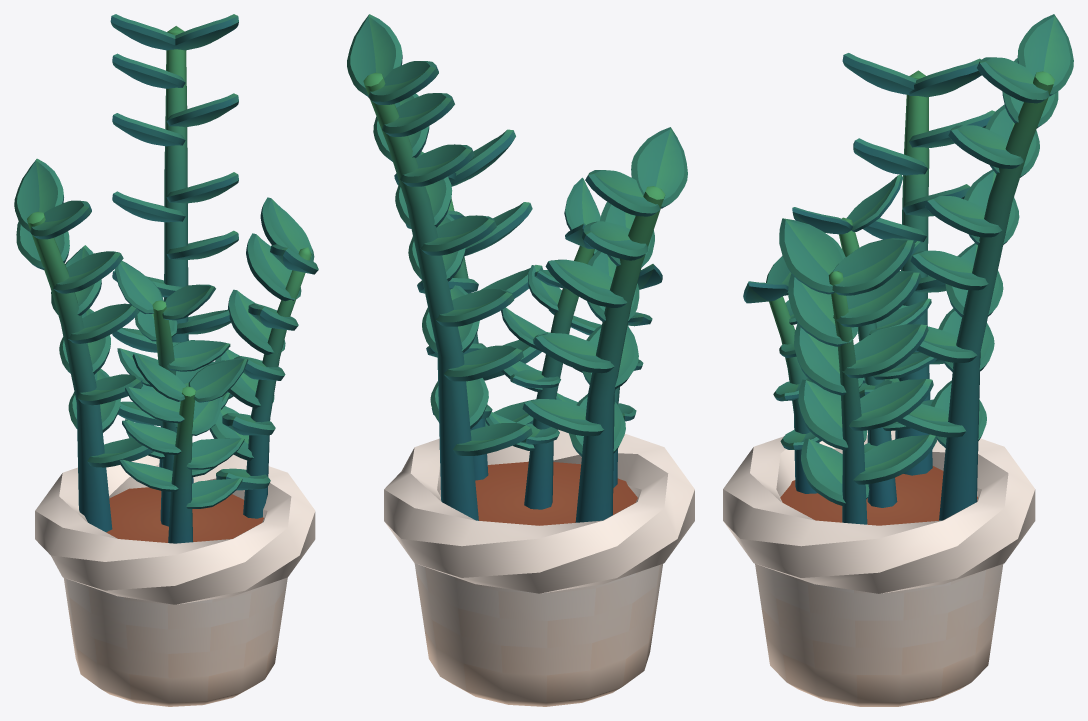
Rendered from house_plants_plants_zz_plant_pot.glb.
3 views of the same model, side by side, from view 1: azimuth 30°, elevation 25°; view 2: azimuth 150°, elevation 25°; view 3: azimuth 270°, elevation 25° (orthographic). The views are drawn at different scales.
Parts seen in each view (by area): view 1: zzplant_plant_large_potted; view 2: zzplant_plant_large_potted; view 3: zzplant_plant_large_potted.
Boxes of the visible parts, <box> form: zzplant_plant_large_potted: <box>14,14,318,706</box>; zzplant_plant_large_potted: <box>347,14,694,706</box>; zzplant_plant_large_potted: <box>723,14,1073,706</box>.
Size of the model in its own units: 1.58 by 3.42 by 1.64.
Materials: 1 (1 with a texture image).
